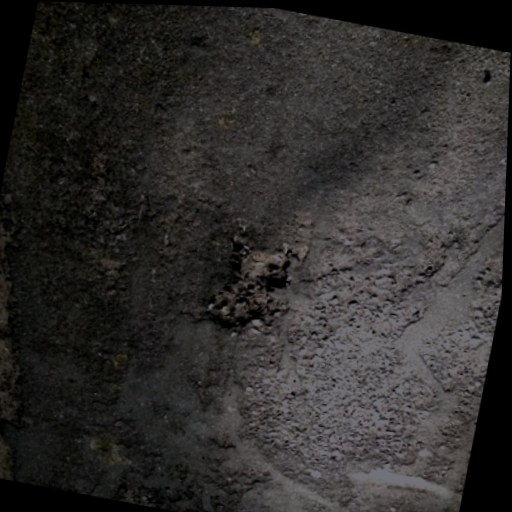pothole: (205, 238, 300, 344)
